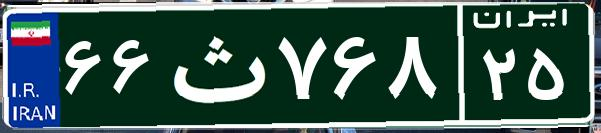2: (475, 38, 525, 113)
5: (525, 38, 570, 115)
6: (330, 28, 385, 110), (57, 26, 110, 107), (110, 28, 158, 105)
7: (273, 28, 330, 110)
8: (385, 28, 445, 110)
ث: (158, 15, 273, 115)
